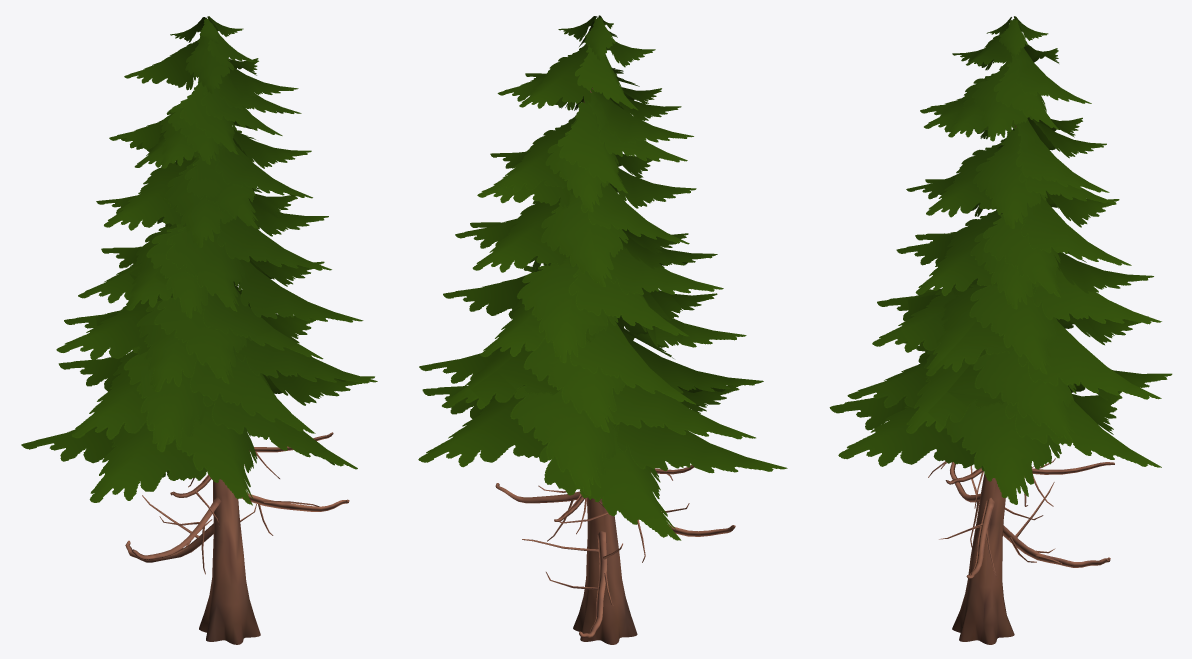
The model's file is kiefer_b.glb.
The picture shows the model from 3 angles, left to right: view 1: azimuth 30°, elevation 25°; view 2: azimuth 150°, elevation 25°; view 3: azimuth 270°, elevation 25°; orthographic projection. The views are drawn at different scales.
Parts seen in each view (by area): view 1: baum; view 2: baum; view 3: baum.
Part boxes in pixels (box(x1,y1,x2,y2)): baum: box(21, 16, 377, 644); baum: box(418, 15, 787, 644); baum: box(829, 16, 1172, 644).
Bounding box in the file's own units: 5.8 × 10.24 × 5.37.
Materials: 2 (1 with a texture image).
